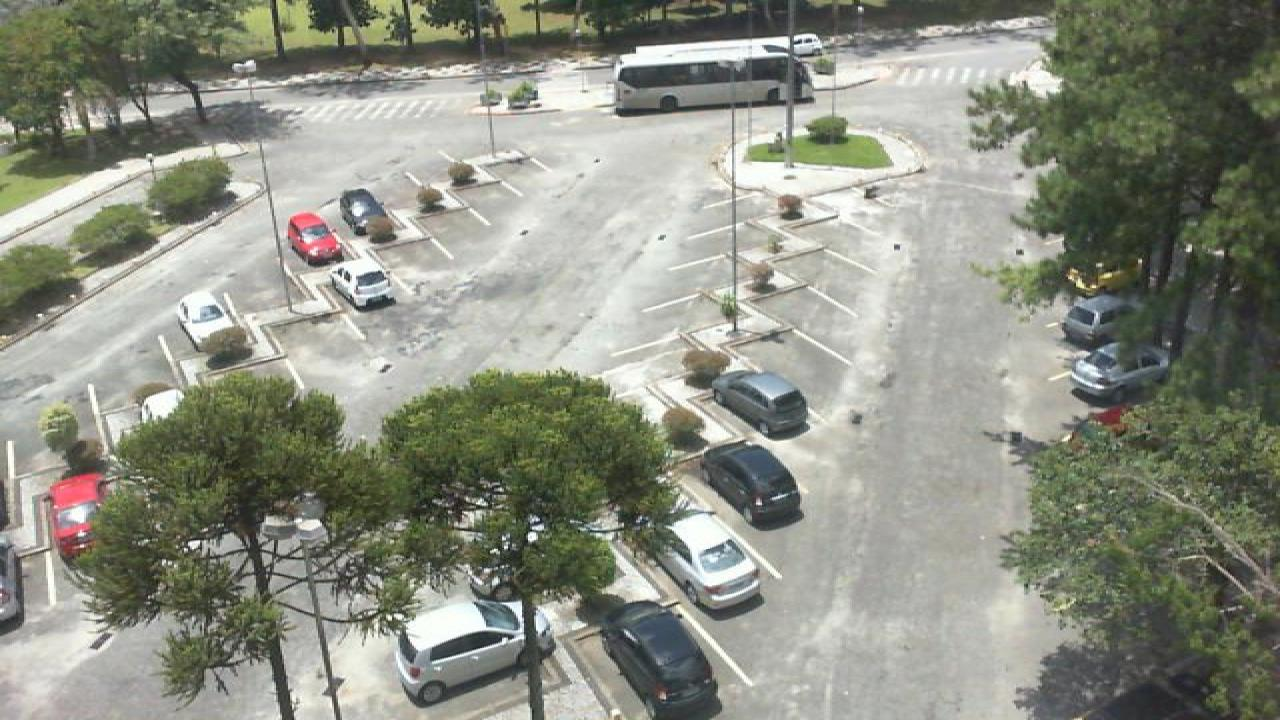Car: (392, 595, 556, 707), (598, 599, 718, 720), (652, 510, 762, 610), (698, 443, 804, 530), (708, 369, 810, 438), (1068, 342, 1170, 402), (48, 472, 114, 560), (1058, 290, 1144, 352), (174, 288, 238, 354), (330, 256, 396, 310), (286, 211, 344, 266), (338, 188, 394, 241), (0, 541, 22, 631), (136, 390, 188, 426), (784, 32, 828, 57)
